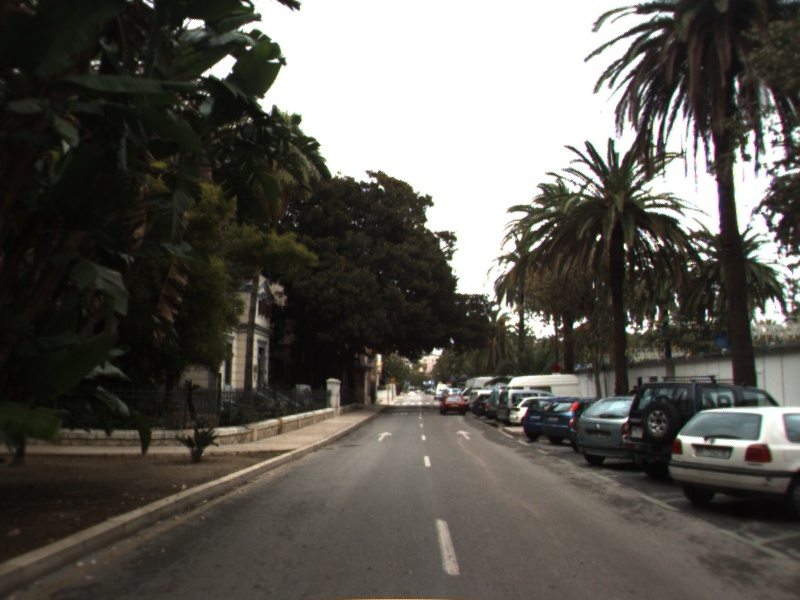STRAIGHT: (375, 430, 395, 443), (453, 428, 473, 441)
